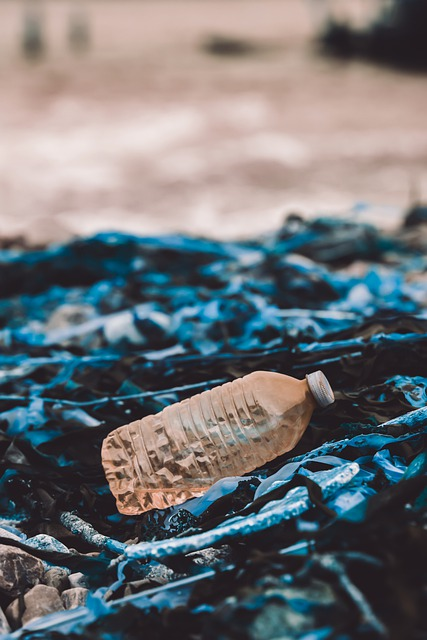plastic_bottle: (93, 365, 336, 519)
